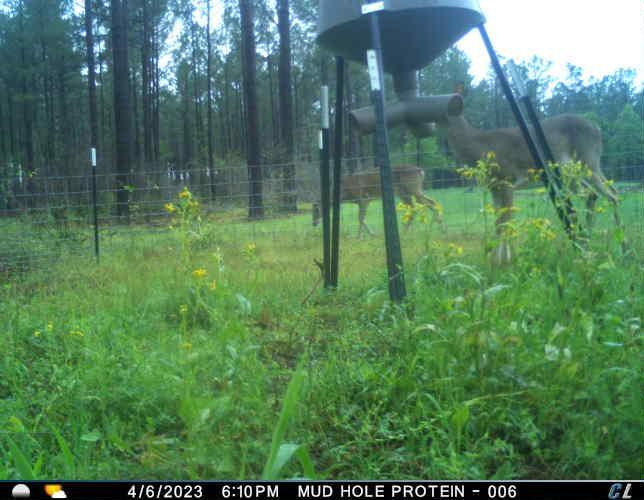Deer: (431, 81, 625, 268), (311, 161, 443, 245)
